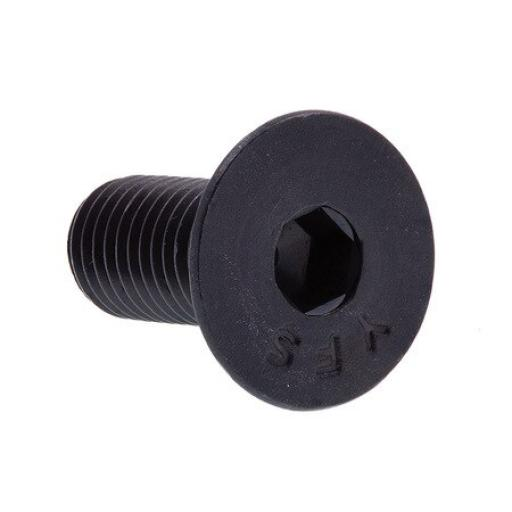Hex-Allen: (191, 105, 438, 414)
